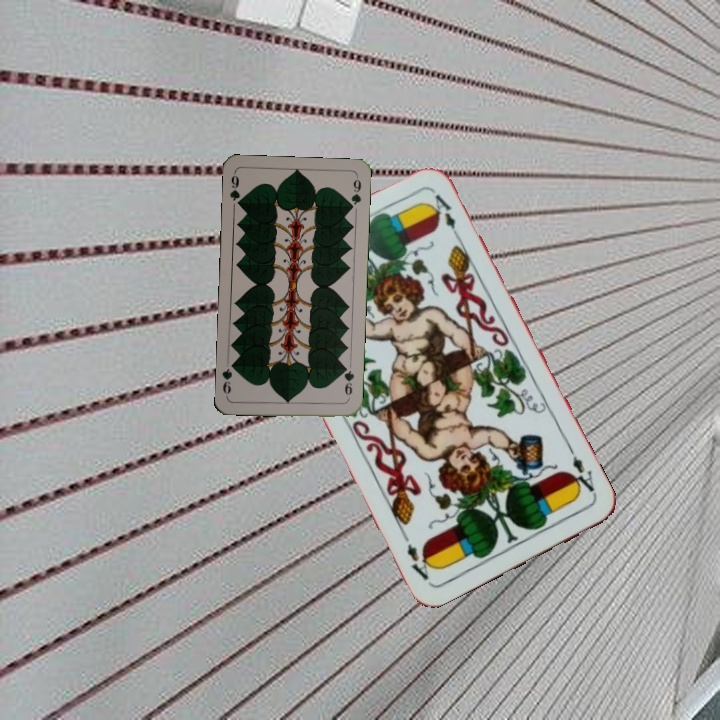EA: (564, 444, 599, 499)
G9: (226, 169, 245, 210), (340, 362, 357, 403)
